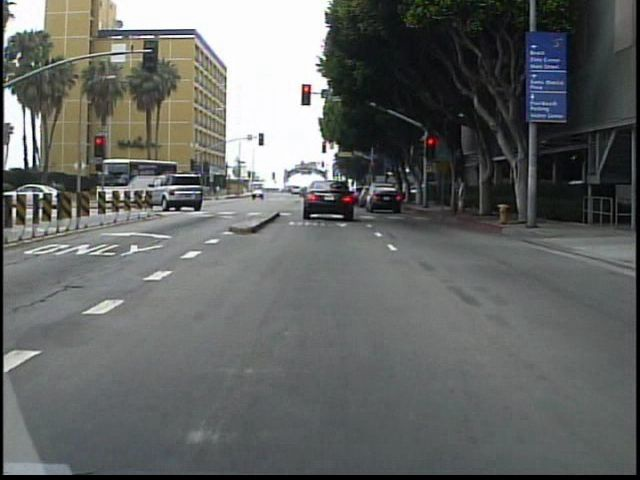person: (455, 169, 473, 216)
